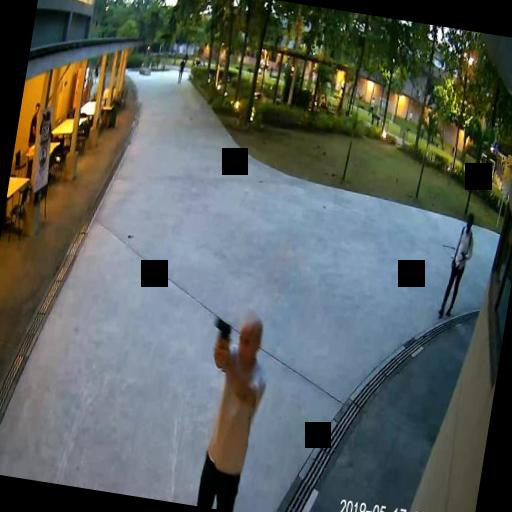Handgun: (207, 314, 232, 360)
